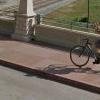Bicycle: (64, 30, 100, 72)
